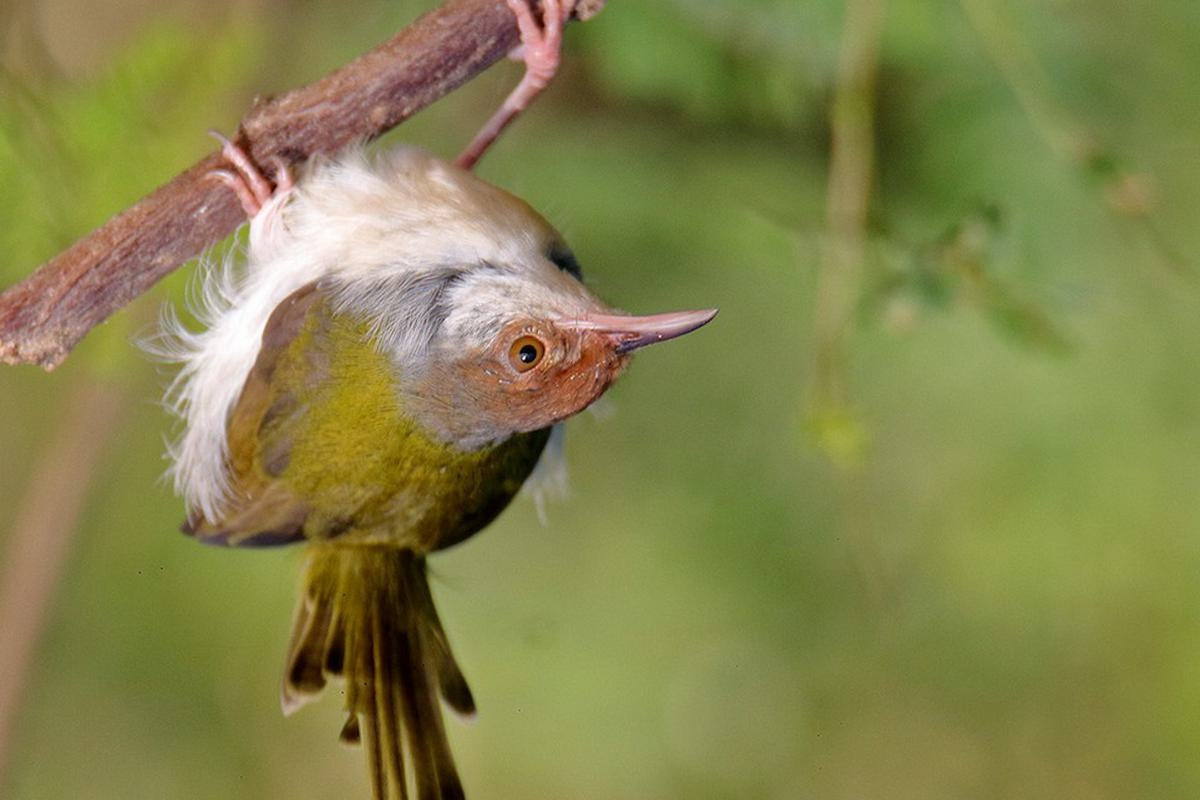tailorbird: (185, 6, 690, 788)
